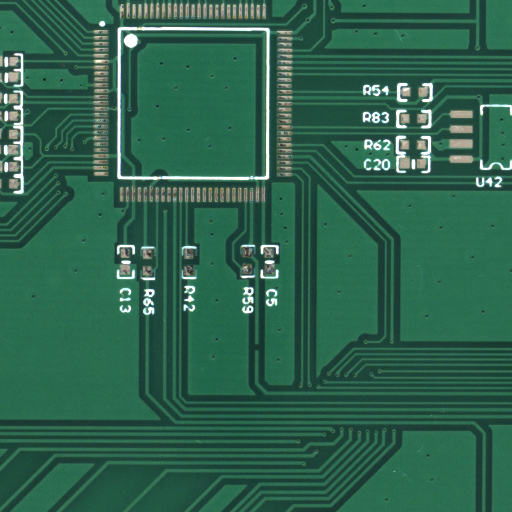Open_circuit: (256, 346, 269, 361)
